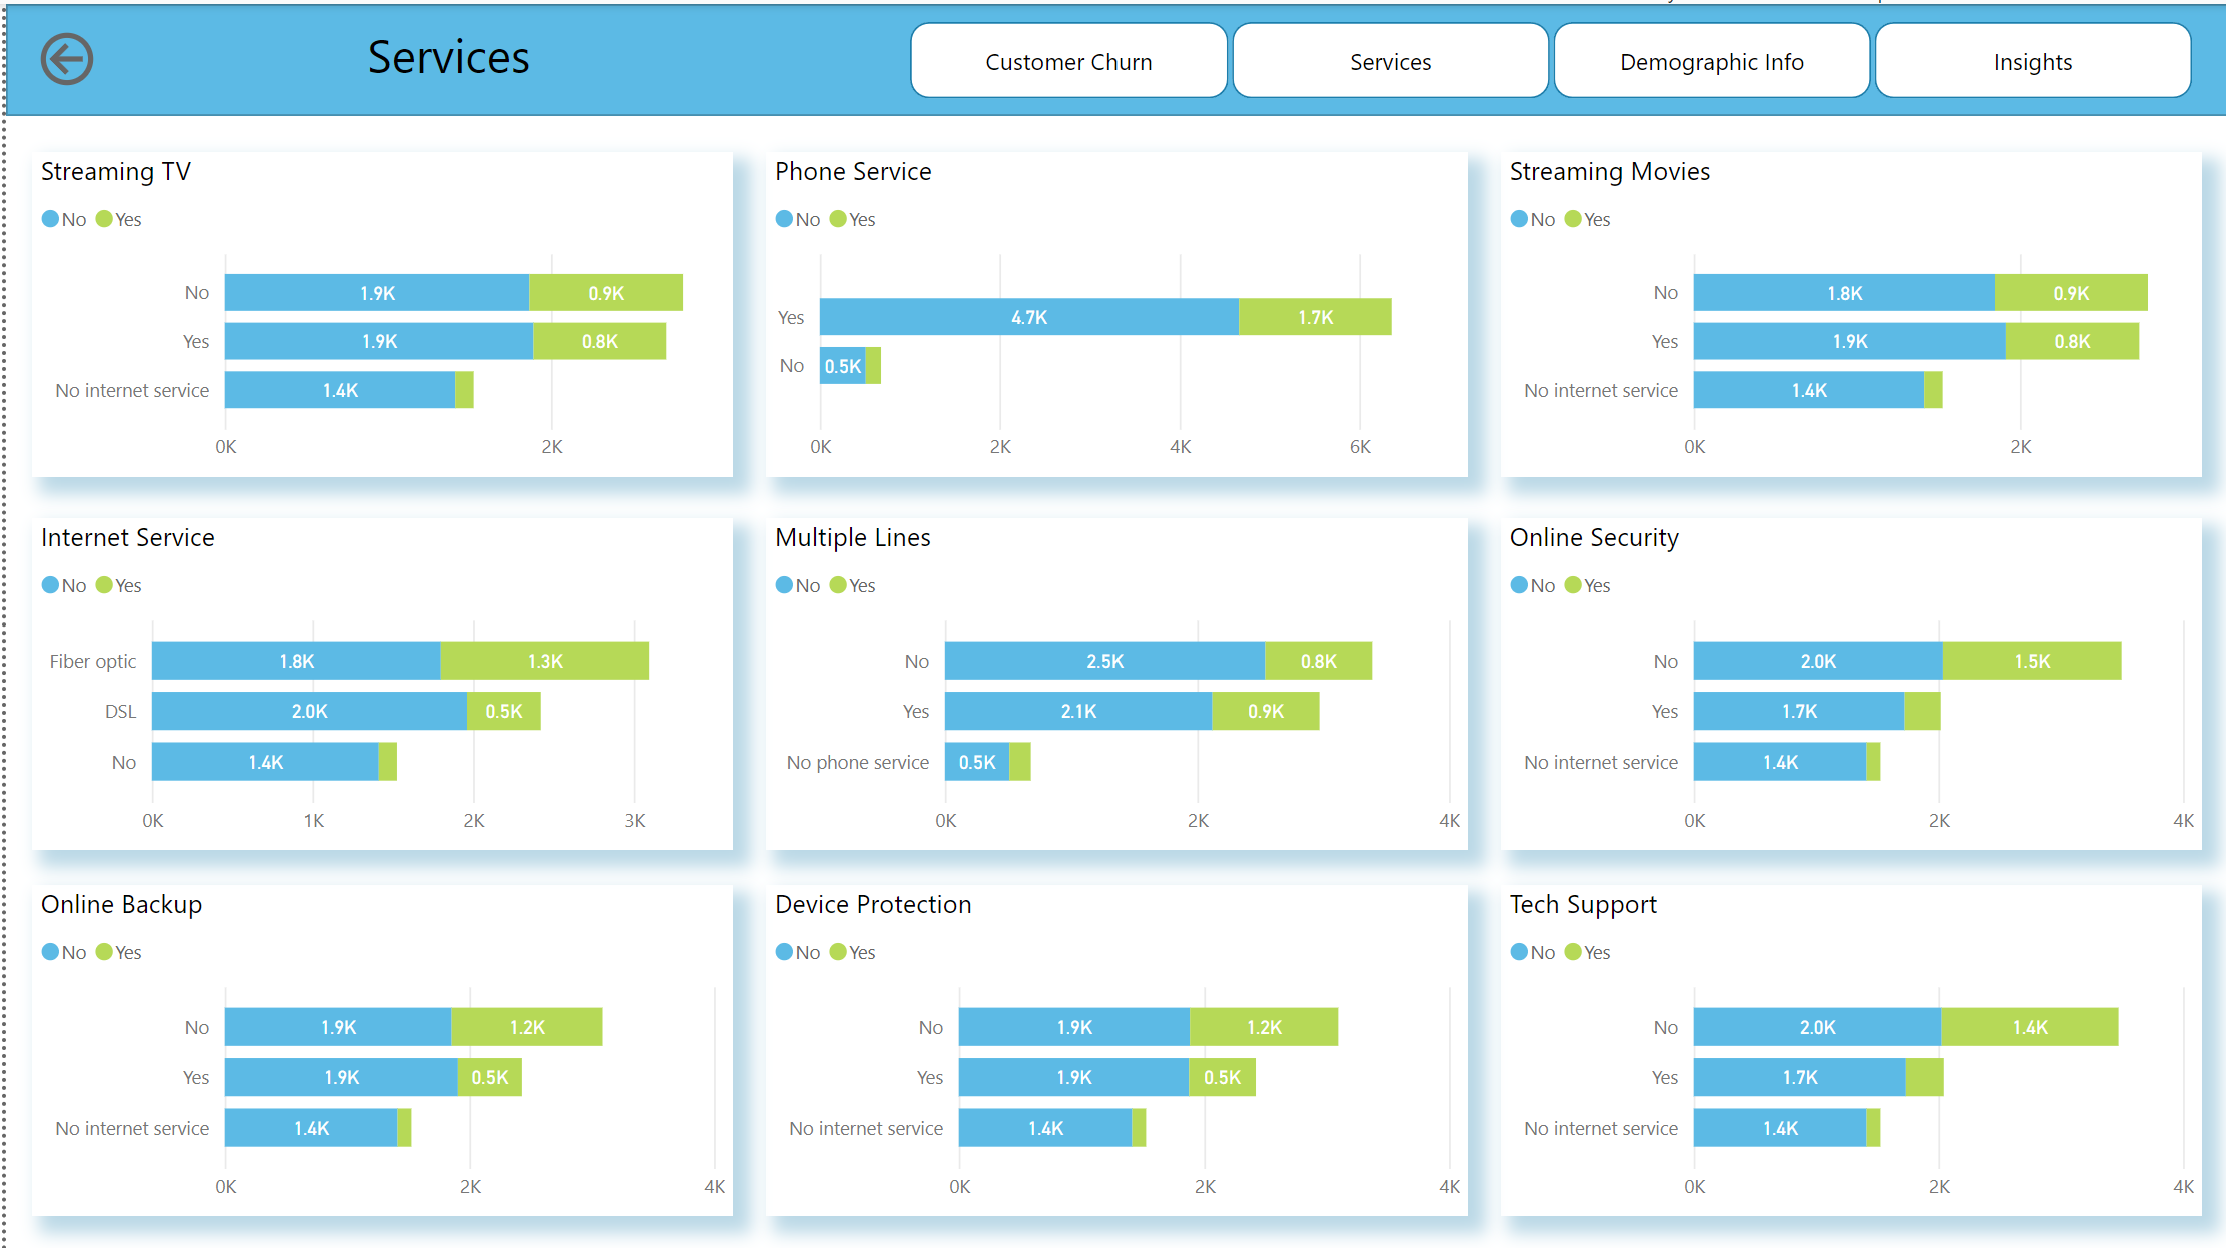

This screenshot's page, from the dashboard's own definition file:
{"tool":"powerbi","page":{"name":"Services","canvas":[1280,720],"ordinal":2},"visuals":[{"type":"shape","box":[0,0,1279.7,64.5],"z":0},{"type":"actionButton","box":[15.2,11.6,43.9,40.3],"z":1000},{"type":"textbox","box":[76.1,5.4,358.2,53.7],"z":2000},{"type":"pageNavigator","box":[521.2,9.9,738.8,44.8],"z":3000},{"type":"barChart","title":"Streaming TV","fields":{"Category":["01 Churn-Dataset.StreamingTV"],"Y":["CountNonNull(01 Churn-Dataset.Churn)"],"Series":["01 Churn-Dataset.Churn"]},"box":[15.2,85.1,403.9,187.2],"z":4000},{"type":"barChart","title":"Streaming Movies","fields":{"Y":["CountNonNull(01 Churn-Dataset.Churn)"],"Series":["01 Churn-Dataset.Churn"],"Category":["01 Churn-Dataset.StreamingMovies"]},"box":[860.6,85.1,403.9,187.2],"z":5000},{"type":"barChart","title":"Phone Service","fields":{"Y":["CountNonNull(01 Churn-Dataset.Churn)"],"Series":["01 Churn-Dataset.Churn"],"Category":["01 Churn-Dataset.PhoneService"]},"box":[437.9,85.1,403.9,187.2],"z":6000},{"type":"barChart","title":"Internet Service","fields":{"Y":["CountNonNull(01 Churn-Dataset.Churn)"],"Series":["01 Churn-Dataset.Churn"],"Category":["01 Churn-Dataset.InternetService"]},"box":[15.2,296.4,403.9,190.7],"z":7000},{"type":"barChart","title":"Online Backup","fields":{"Y":["CountNonNull(01 Churn-Dataset.Churn)"],"Series":["01 Churn-Dataset.Churn"],"Category":["01 Churn-Dataset.OnlineBackup"]},"box":[15.2,506.9,403.9,190.7],"z":7001},{"type":"barChart","title":"Multiple Lines","fields":{"Y":["CountNonNull(01 Churn-Dataset.Churn)"],"Series":["01 Churn-Dataset.Churn"],"Category":["01 Churn-Dataset.MultipleLines"]},"box":[437.9,296.4,403.9,190.7],"z":7002},{"type":"barChart","title":"Online Security","fields":{"Y":["CountNonNull(01 Churn-Dataset.Churn)"],"Series":["01 Churn-Dataset.Churn"],"Category":["01 Churn-Dataset.OnlineSecurity"]},"box":[860.6,296.4,403.9,190.7],"z":7003},{"type":"barChart","title":"Device Protection","fields":{"Y":["CountNonNull(01 Churn-Dataset.Churn)"],"Series":["01 Churn-Dataset.Churn"],"Category":["01 Churn-Dataset.DeviceProtection"]},"box":[437.9,506.9,403.9,190.7],"z":7004},{"type":"barChart","title":"Tech Support","fields":{"Y":["CountNonNull(01 Churn-Dataset.Churn)"],"Series":["01 Churn-Dataset.Churn"],"Category":["01 Churn-Dataset.TechSupport"]},"box":[860.6,506.9,403.9,190.7],"z":7005}]}

Visuals, with their boxes in screenshot pixels (x1, y1, x2, y2), scaled from the page's 1280x720 canvas onto the 2226x1248 screenshot:
shape: Rect(0, 0, 2225, 112)
actionButton: Rect(26, 20, 103, 90)
textbox: Rect(132, 9, 755, 102)
pageNavigator: Rect(906, 17, 2191, 95)
"Streaming TV" barChart: Rect(26, 148, 729, 472)
"Streaming Movies" barChart: Rect(1497, 148, 2199, 472)
"Phone Service" barChart: Rect(762, 148, 1464, 472)
"Internet Service" barChart: Rect(26, 514, 729, 844)
"Online Backup" barChart: Rect(26, 879, 729, 1209)
"Multiple Lines" barChart: Rect(762, 514, 1464, 844)
"Online Security" barChart: Rect(1497, 514, 2199, 844)
"Device Protection" barChart: Rect(762, 879, 1464, 1209)
"Tech Support" barChart: Rect(1497, 879, 2199, 1209)
